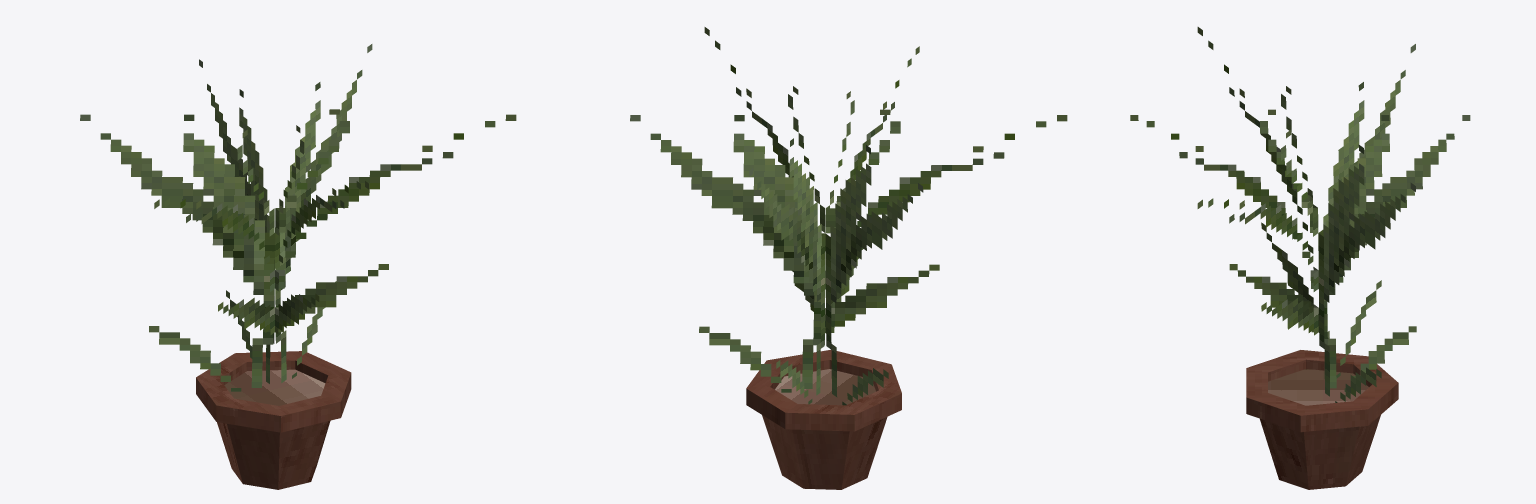
File: plant2.glb
The picture shows the model from 3 angles, left to right: view 1: azimuth 30°, elevation 25°; view 2: azimuth 150°, elevation 25°; view 3: azimuth 270°, elevation 25°; orthographic projection.
Visible parts, largest first — view 1: Plane.002; view 2: Plane.002; view 3: Plane.002.
Part boxes in pixels (x1=…): Plane.002: x1=80, y1=44, x2=516, y2=489; Plane.002: x1=630, y1=27, x2=1067, y2=489; Plane.002: x1=1130, y1=27, x2=1470, y2=489.
Size of the model in its own units: 3.59 by 3.17 by 3.23.
5 materials, 5 textured.
